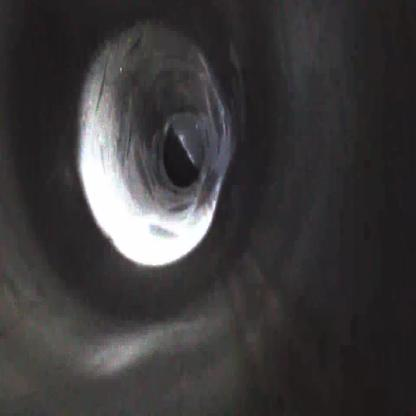Crack: (78, 19, 241, 268)
